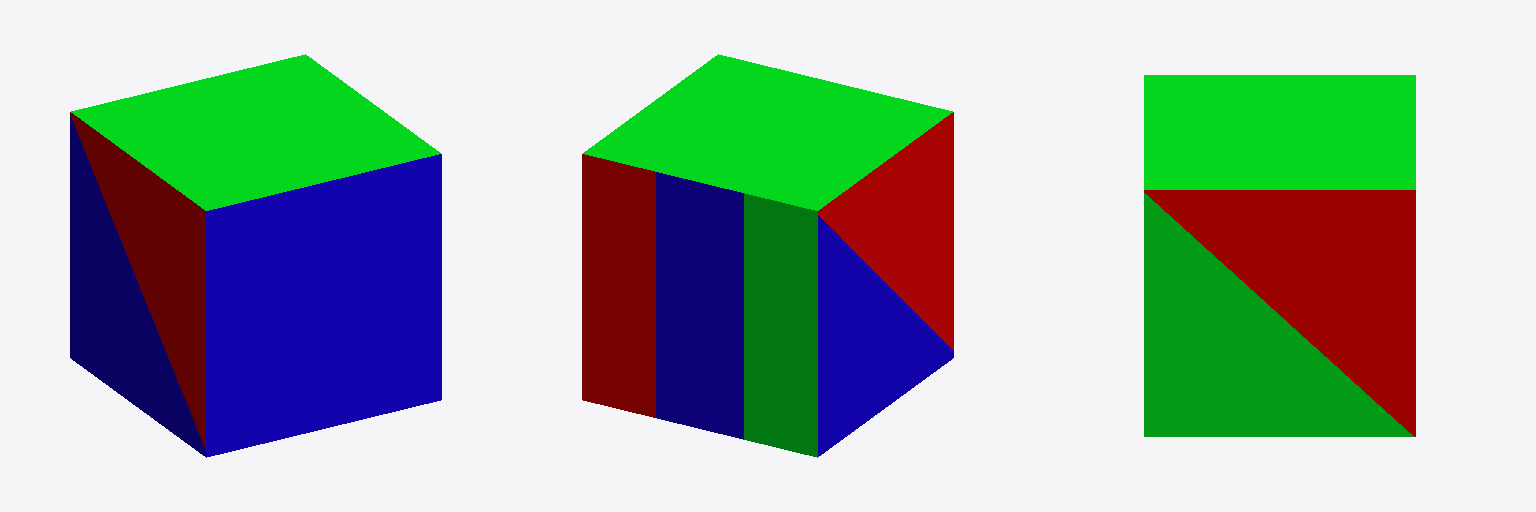
3 renders of one model, left to right at view 1: azimuth 30°, elevation 25°; view 2: azimuth 150°, elevation 25°; view 3: azimuth 270°, elevation 25°, orthographic.
Parts seen in each view (by area): view 1: red.001_Plane.009; view 2: red.001_Plane.009; view 3: red.001_Plane.009.
Boxes of the visible parts, box(x1,y1,x2,y2) form: red.001_Plane.009: box(70, 54, 441, 457); red.001_Plane.009: box(582, 54, 953, 457); red.001_Plane.009: box(1144, 75, 1415, 436).
Bounding box in the file's own units: 2 × 2 × 2.
1 materials, 1 textured.